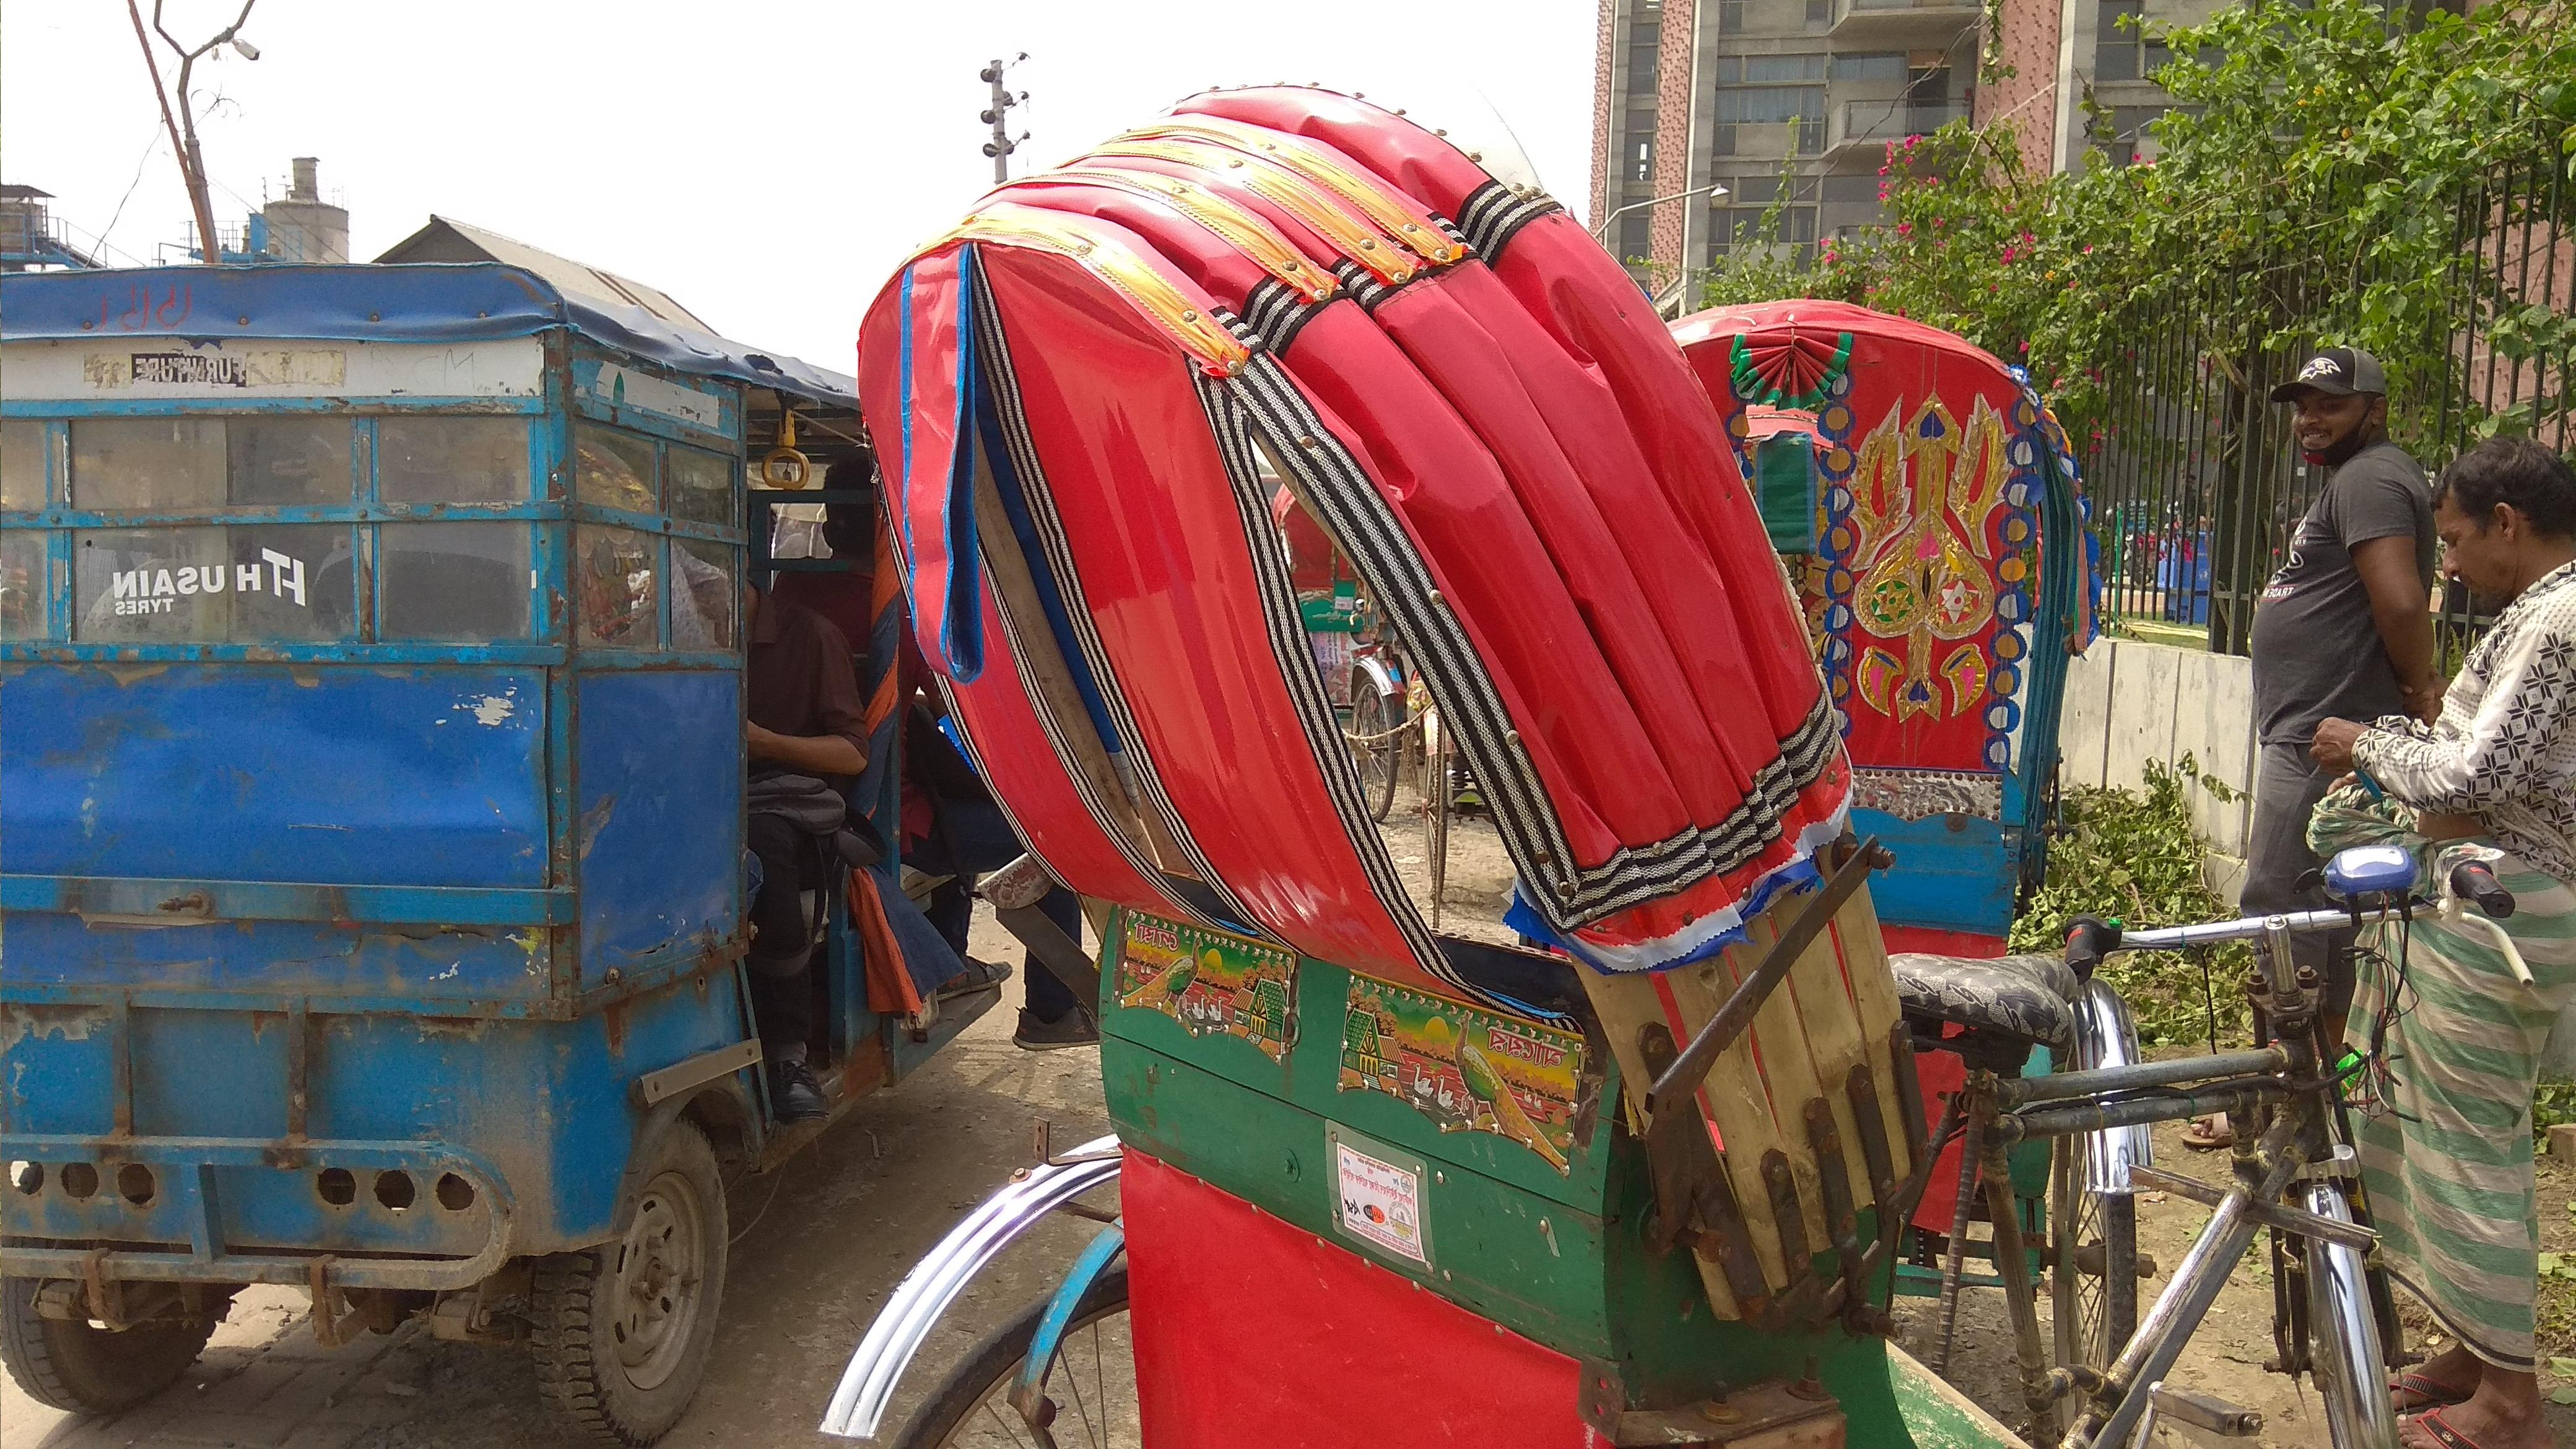Rickshaw: (826, 108, 2298, 1444), (1656, 232, 2190, 1401)
